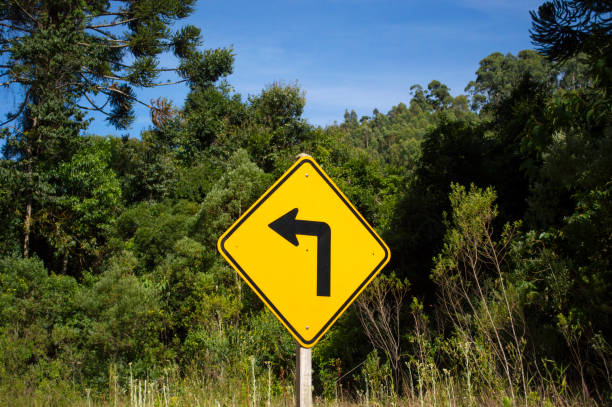left turn: (214, 156, 390, 348)
